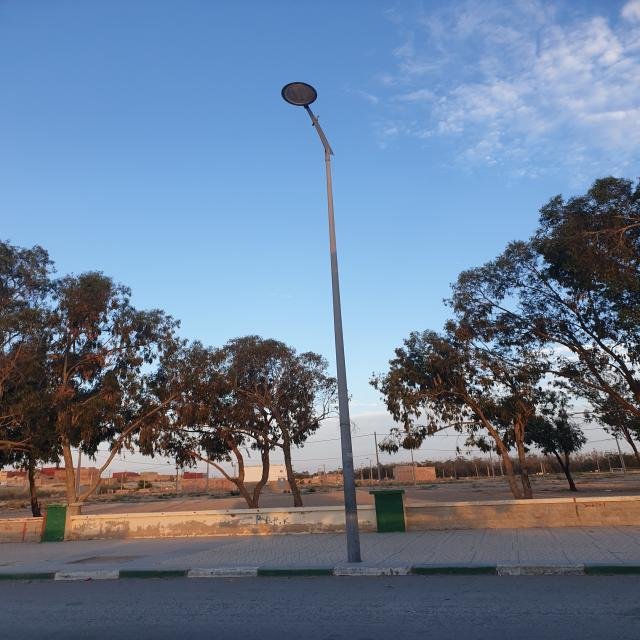Electric pole: (281, 81, 361, 563)
Tree: (448, 177, 640, 452), (0, 241, 178, 503), (370, 321, 545, 500), (222, 336, 335, 508)
